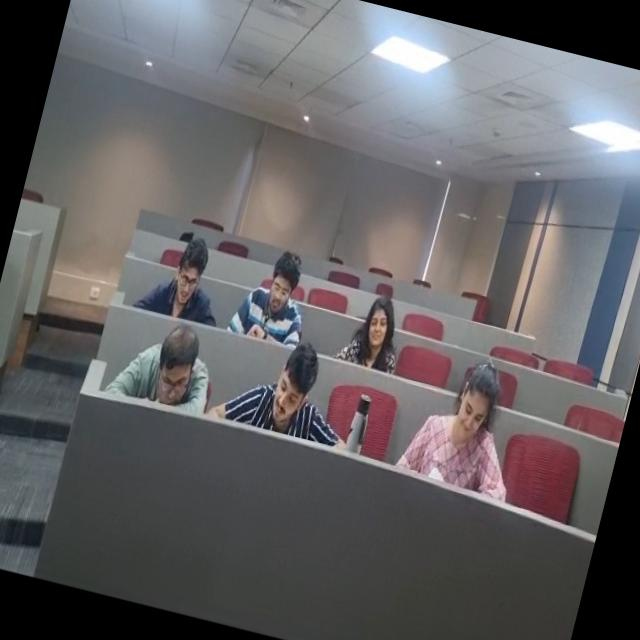cheating: (132, 315, 236, 428), (243, 231, 320, 347), (441, 362, 522, 459), (254, 346, 336, 438)
non-cheating: (332, 276, 424, 374), (159, 220, 238, 324)
